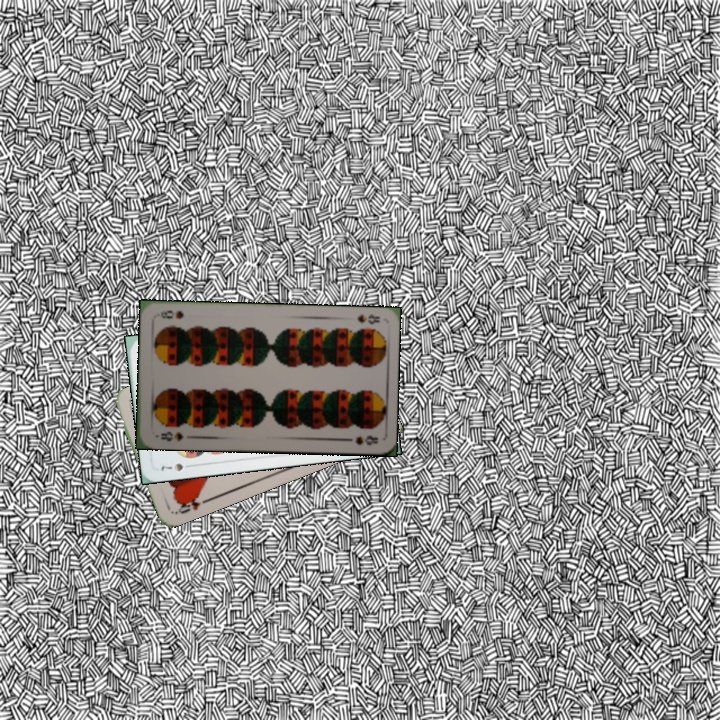HO: (172, 492, 211, 517)
S7: (157, 459, 196, 474)
S8: (157, 428, 186, 444), (353, 310, 382, 326)
